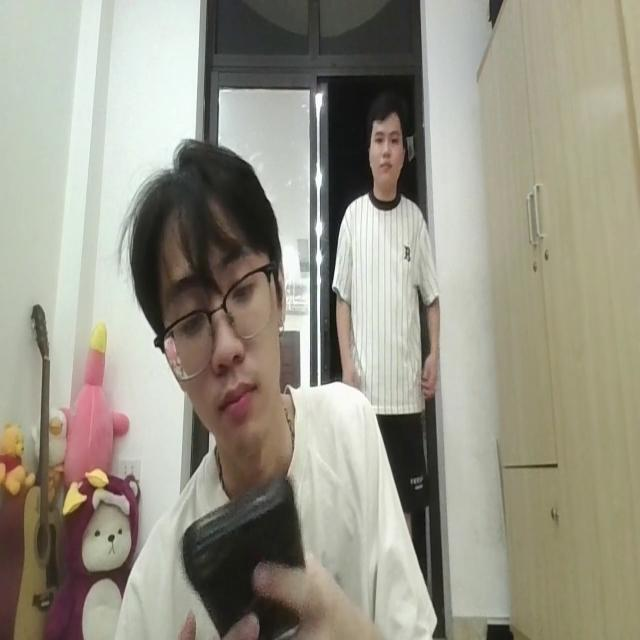extra_person: (325, 91, 446, 466)
phone: (172, 470, 314, 624)
student: (80, 130, 434, 640)
